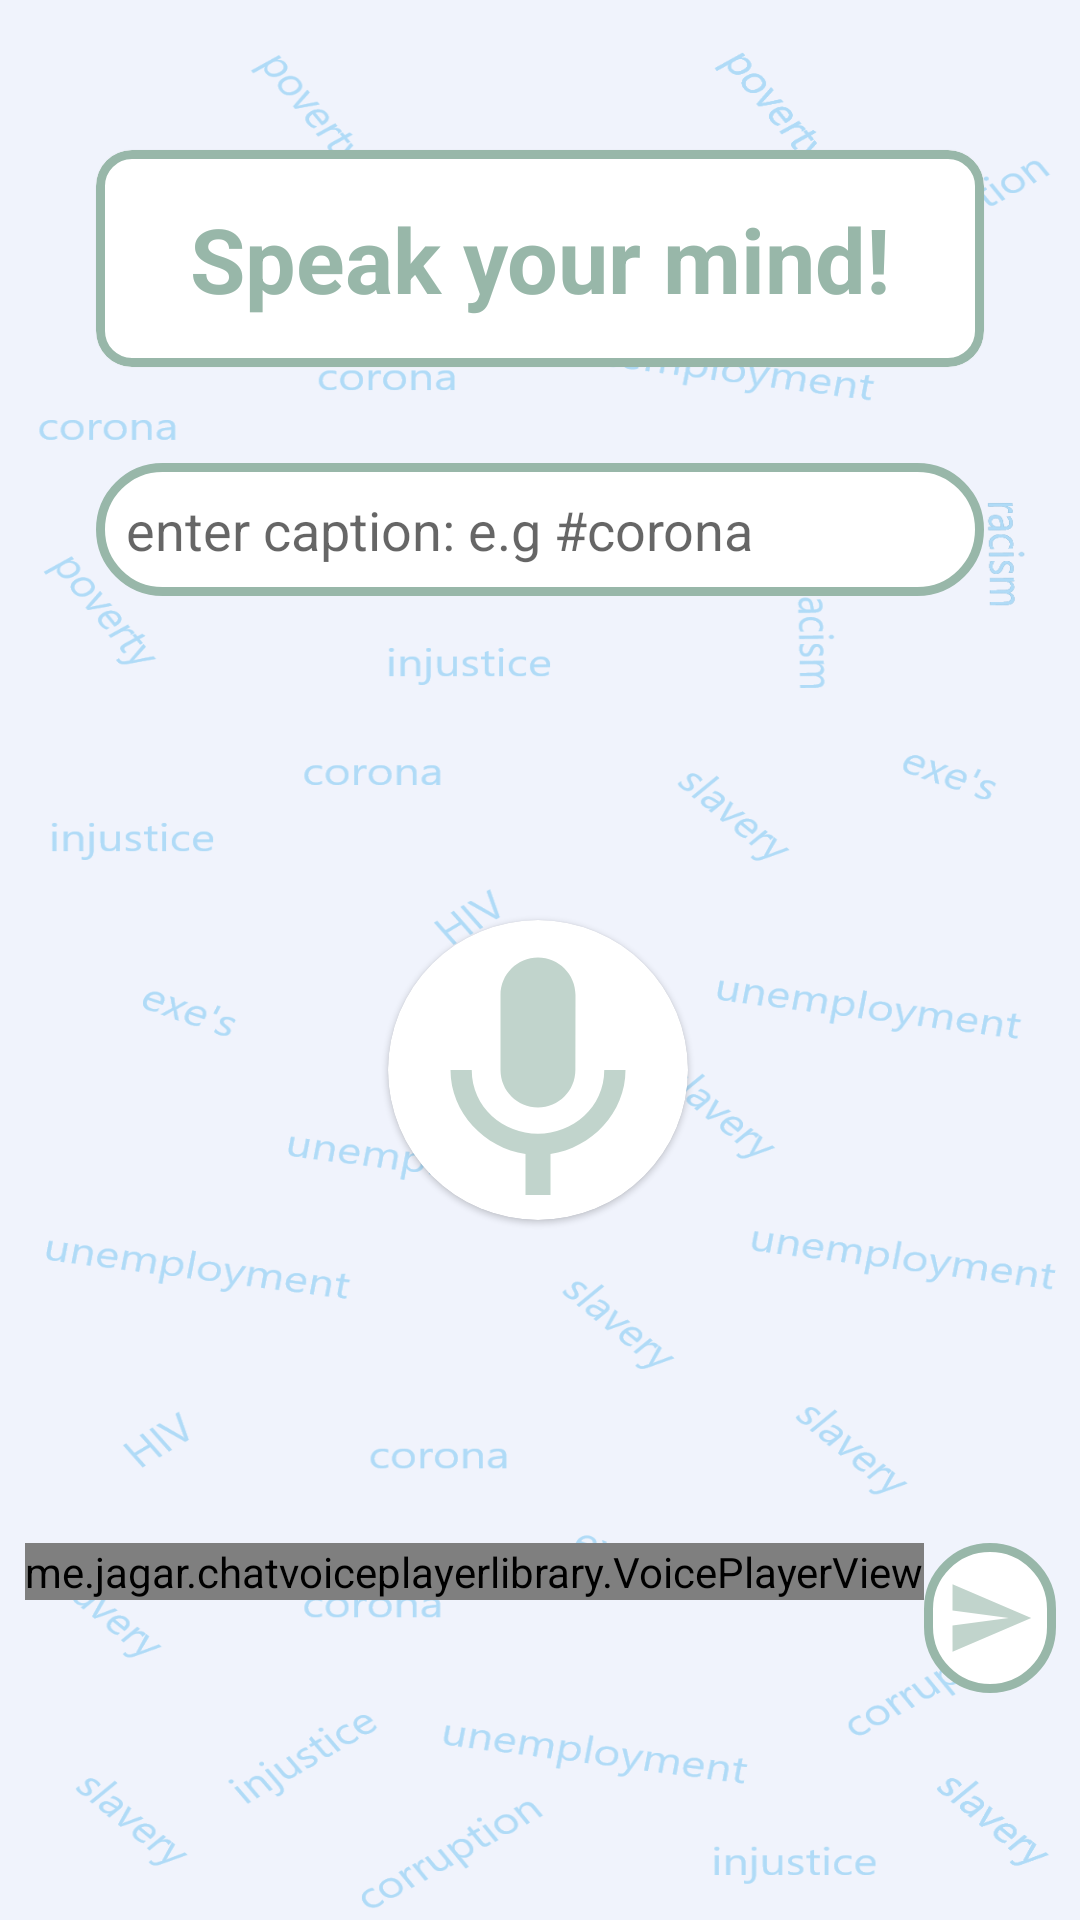

Icons on this 1080px×1920px Android screen, each with the point to tap as (x,y):
record: (538,1070)
share: (990,1618)
